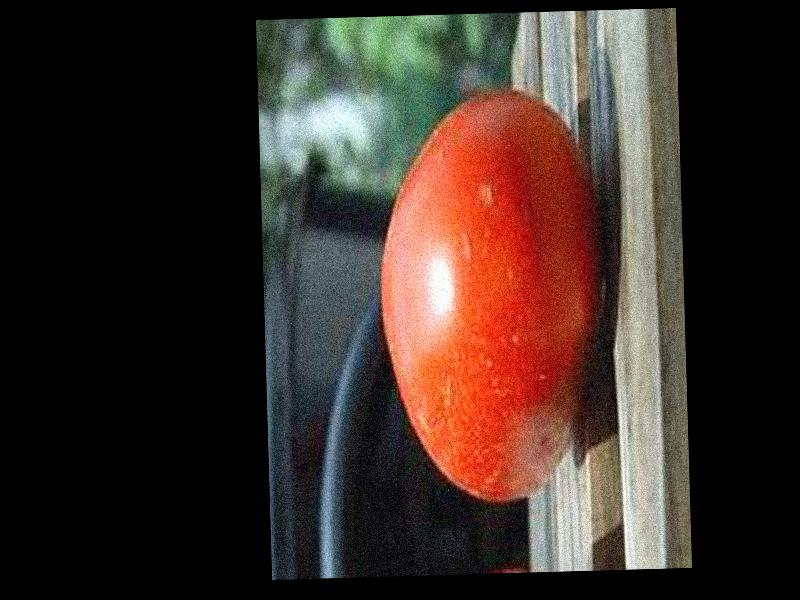Tomato: (374, 85, 604, 504)
